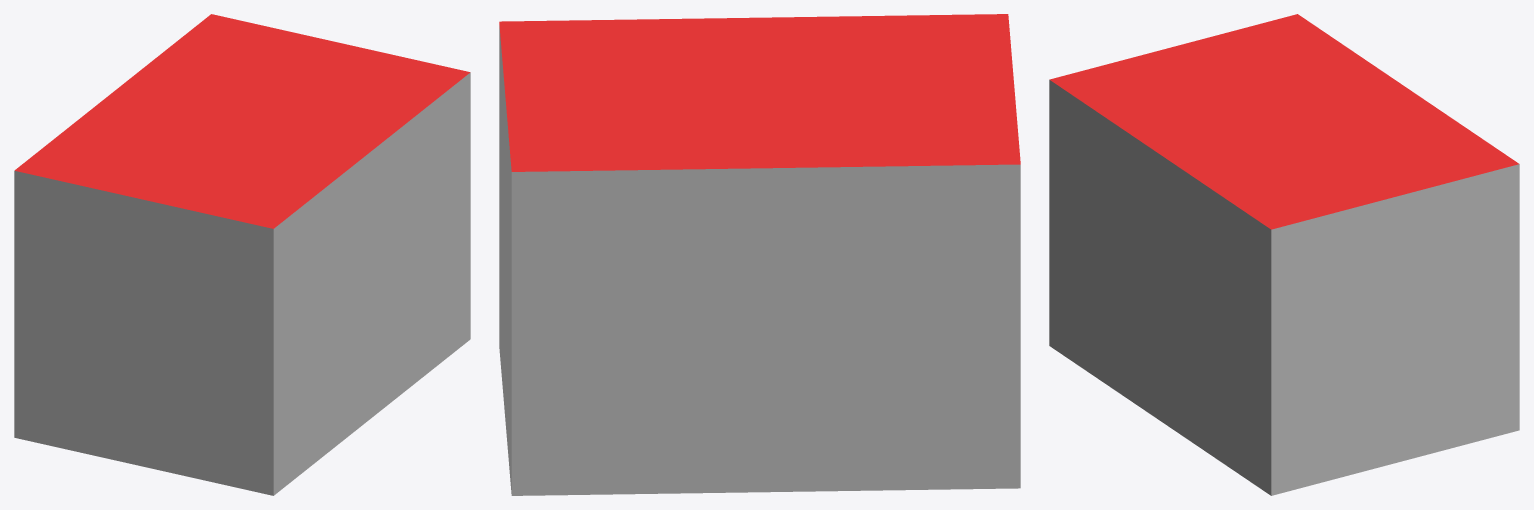
File: ID_daedd2bd-bd34-4c64-8f42-41710971c65e.dae
3 renders of one model, left to right at view 1: azimuth 30°, elevation 25°; view 2: azimuth 150°, elevation 25°; view 3: azimuth 270°, elevation 25°, orthographic. The views are drawn at different scales.
Size of the model in its own units: 22.65 by 20.88 by 13.04.
